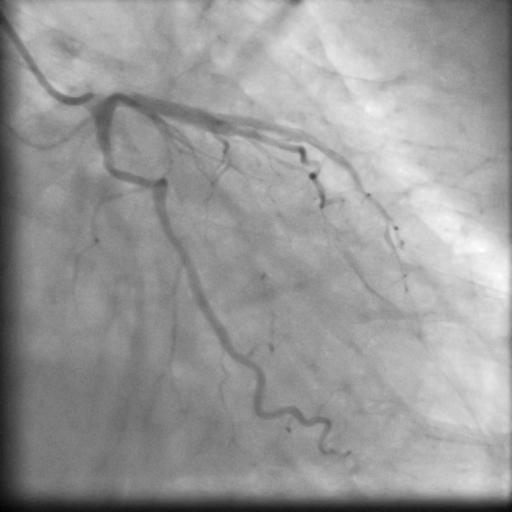Stenosis: (126, 167, 159, 195)
